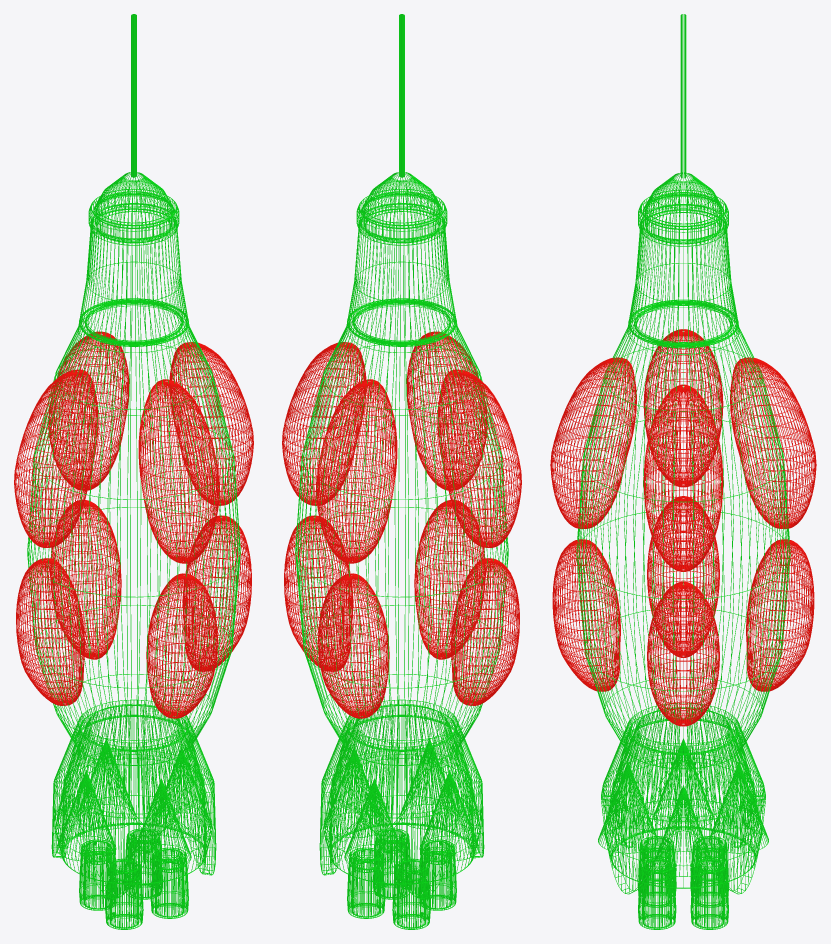
The model's file is virus-missile-highlight-binary-agent-pods.glb.
3 renders of one model, left to right at view 1: azimuth 30°, elevation 25°; view 2: azimuth 150°, elevation 25°; view 3: azimuth 270°, elevation 25°, orthographic.
Visible parts, largest first — view 1: chassis technical wire, binary-agent-pods technical wire, main-thrusters technical wire, atmospheric-resistance-sensors technical wire; view 2: chassis technical wire, binary-agent-pods technical wire, main-thrusters technical wire, atmospheric-resistance-sensors technical wire; view 3: binary-agent-pods technical wire, chassis technical wire, atmospheric-resistance-sensors technical wire, main-thrusters technical wire.
Part boxes in pixels (x1,y1,x2,y2): chassis technical wire: (27, 14, 240, 898); binary-agent-pods technical wire: (14, 331, 253, 718); main-thrusters technical wire: (79, 828, 188, 929); atmospheric-resistance-sensors technical wire: (56, 739, 211, 869); chassis technical wire: (295, 14, 508, 898); binary-agent-pods technical wire: (282, 331, 521, 718); main-thrusters technical wire: (347, 828, 456, 929); atmospheric-resistance-sensors technical wire: (324, 739, 479, 869); binary-agent-pods technical wire: (550, 329, 816, 726); chassis technical wire: (576, 14, 790, 894); atmospheric-resistance-sensors technical wire: (598, 738, 768, 876); main-thrusters technical wire: (638, 836, 728, 929).
Size of the model in its own units: 1.78 by 6.61 by 1.78.
